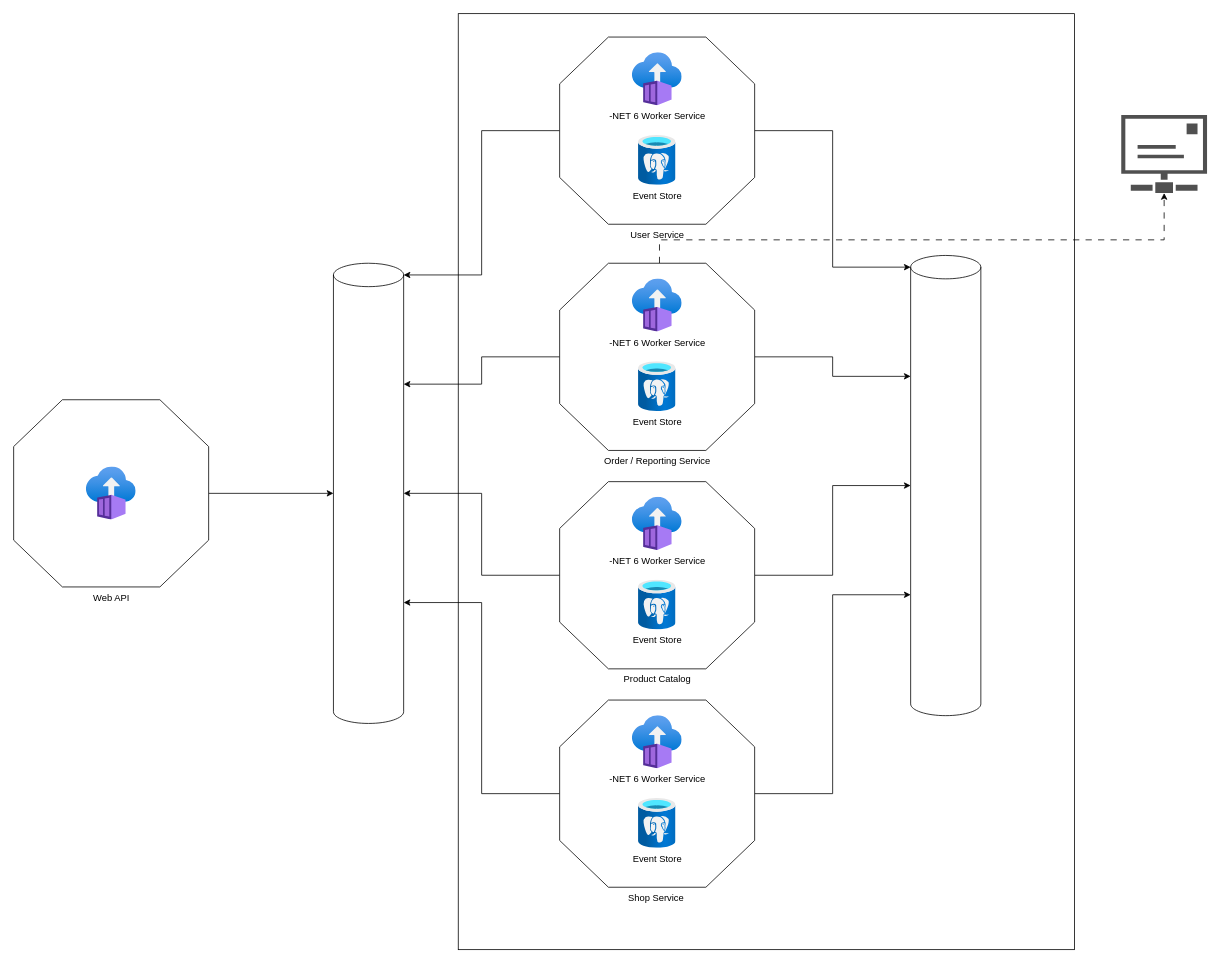
Some shapes in this 1221 by 970 pixel diagram are drawn without their labels. Here are the shapes that lost their labels. From the top down, the centre of each, then its label:
(x=1164, y=154): SMTP Gateway
(x=111, y=492): -NET 6 ASP.NET Core API
(x=368, y=492): External Event Bus (Rabbit MQ)
(x=945, y=485): Internal Event Bus (Rabbit MQ)
